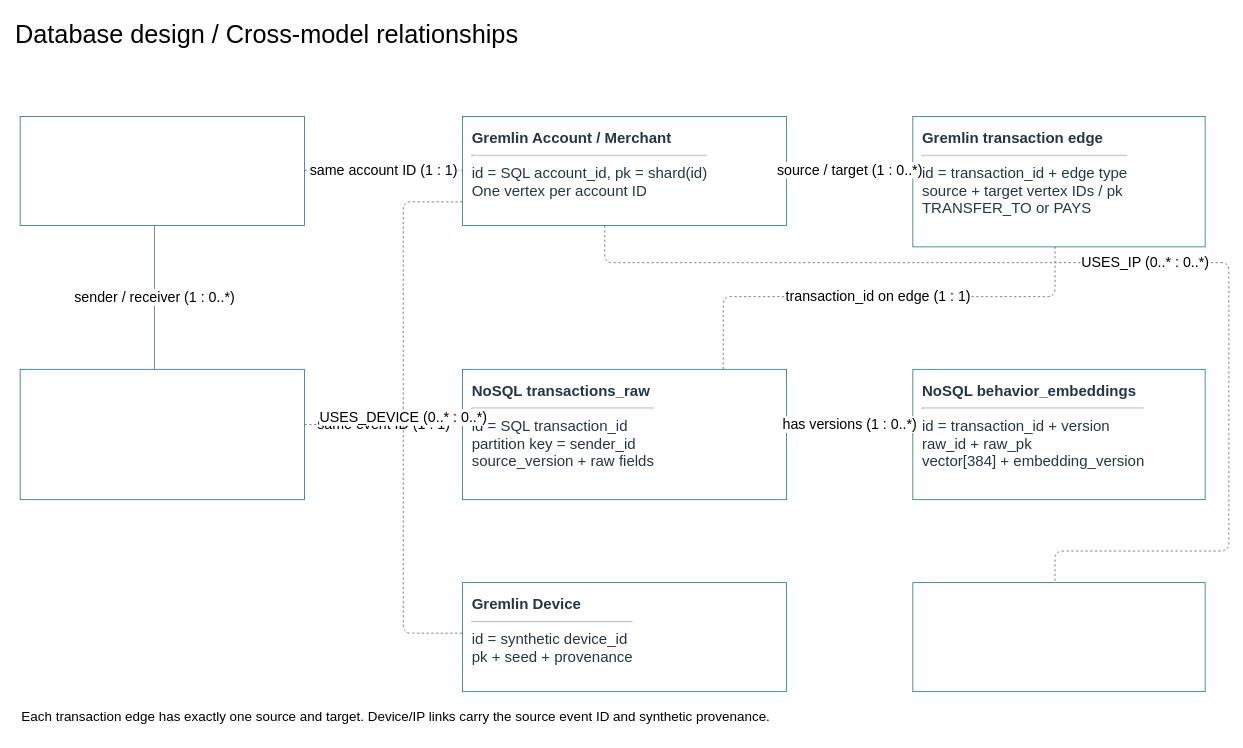
Image size: 1243x748. Some labels were removed from this diagram. Here are the shapes that lost their labels. From the top down, the centre of each, then its label:
At point (162, 171): "SQL ACCOUNT PK account_id customer or merchant".
At point (162, 434): "SQL TRANSACTION PK transaction_id FK sender_id, receiver_id FK batch_id".
At point (1058, 637): "Gremlin IP id = synthetic ip_id pk + seed + provenance".
